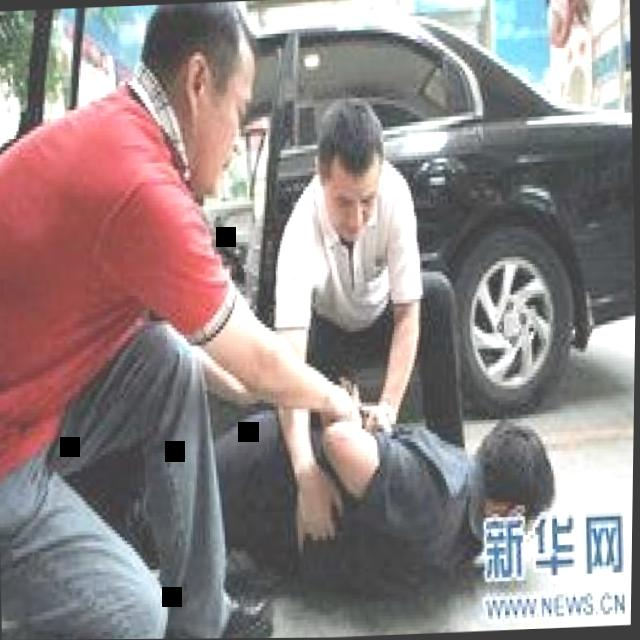Fall-Detected: (145, 335, 573, 607)
